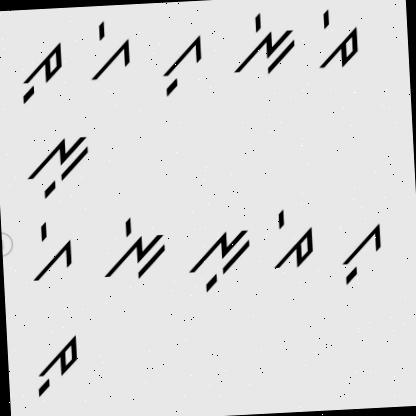ge: (26, 216, 76, 286), (84, 16, 133, 84)
gu: (336, 219, 390, 290), (158, 30, 209, 100)
nge: (96, 209, 169, 282), (227, 7, 298, 81)
ngu: (23, 132, 95, 202), (184, 220, 254, 292)
te: (260, 203, 320, 273), (310, 6, 366, 74)
tu: (14, 30, 68, 108), (31, 330, 84, 401)
